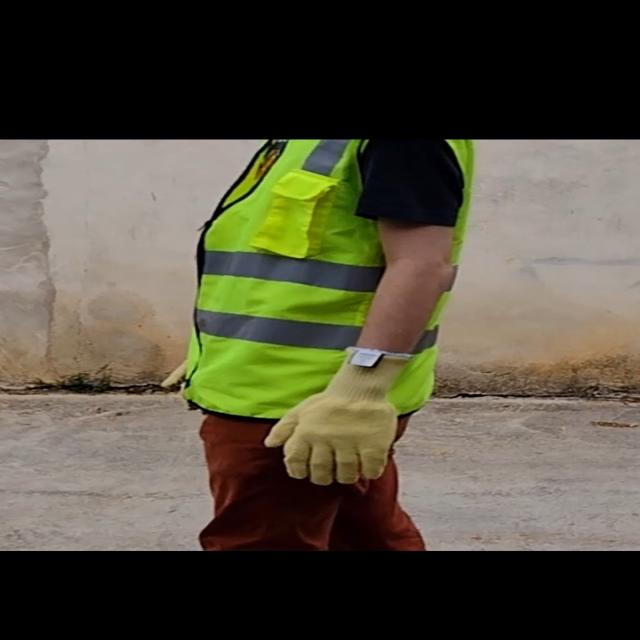glove: (264, 346, 415, 488)
pants: (197, 411, 421, 546)
vest: (167, 140, 489, 418)
